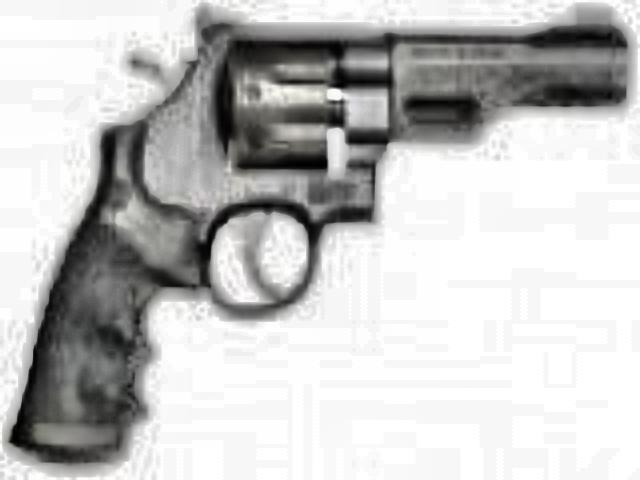pistol: (24, 4, 616, 456)
